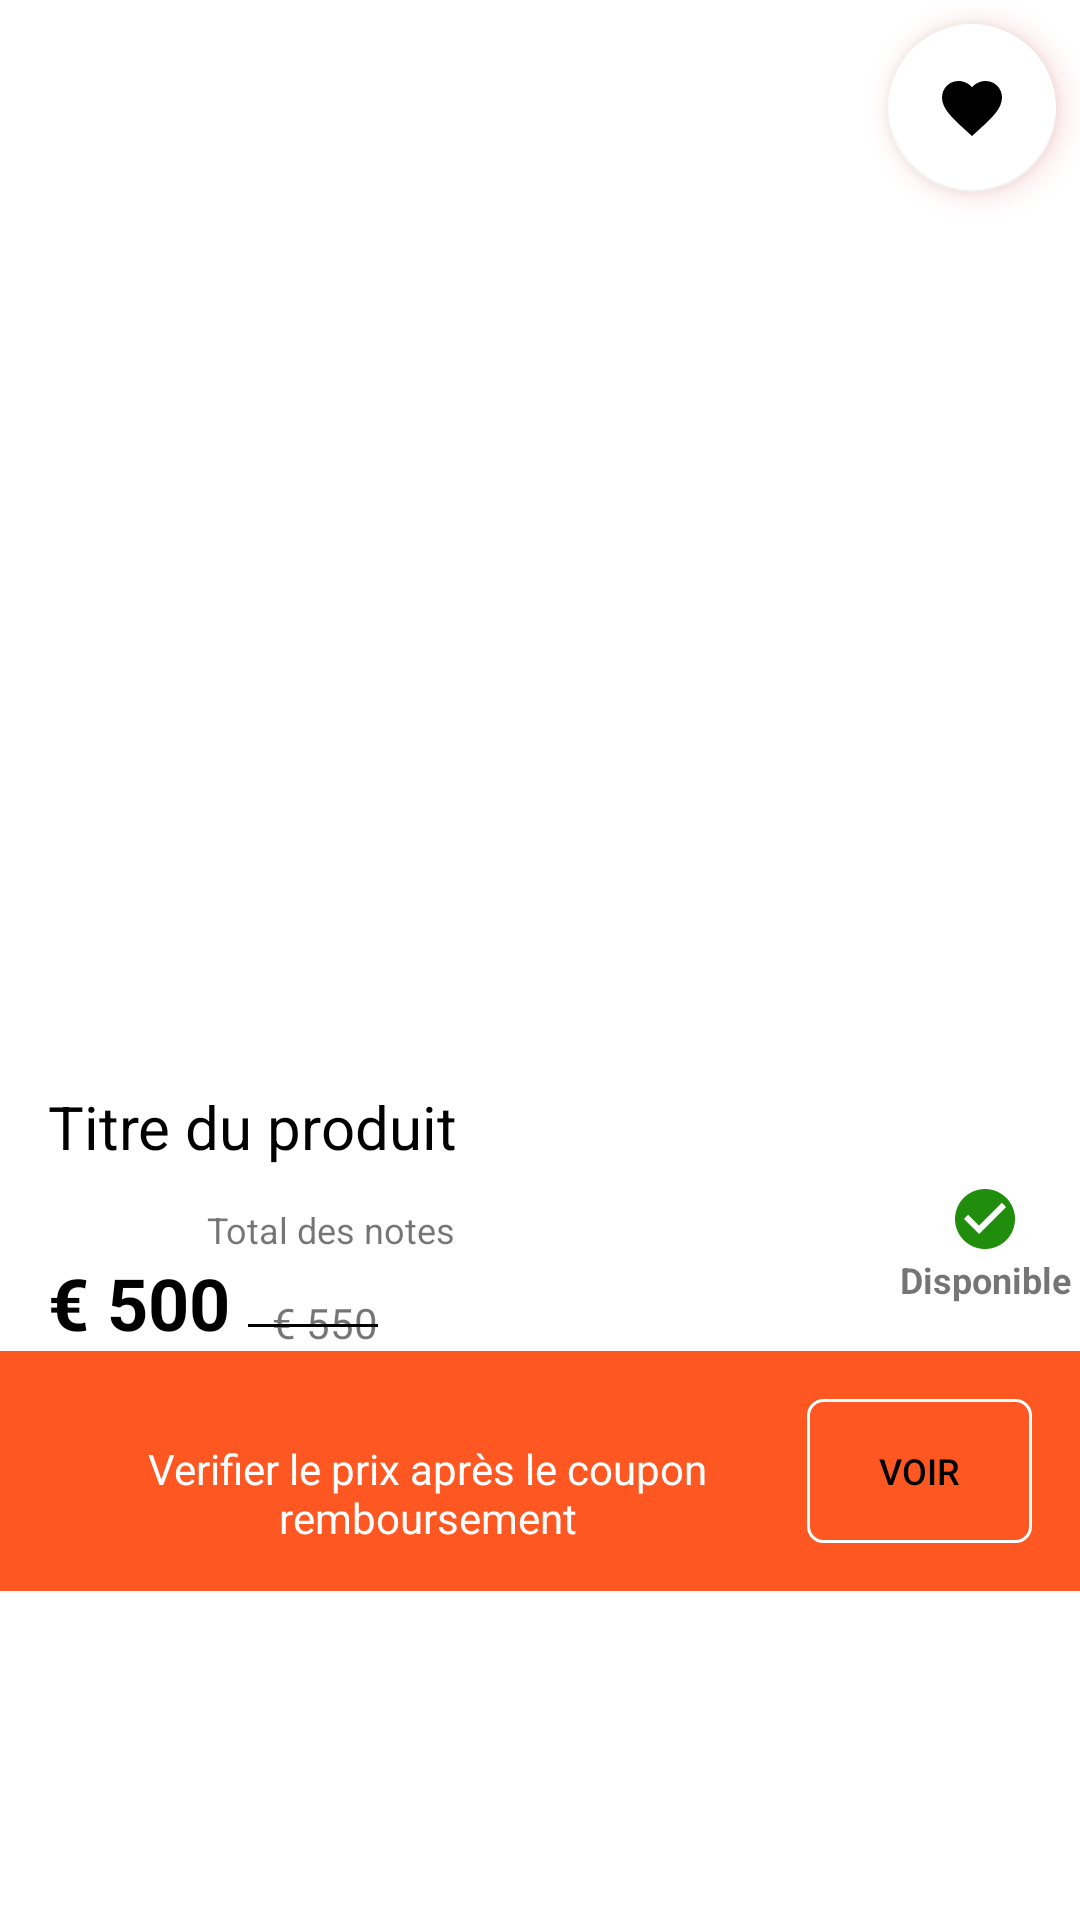

Point at icon controls on the screen. Image size 1080px×1920px, points as [x,y].
check circle: [985,1219]
